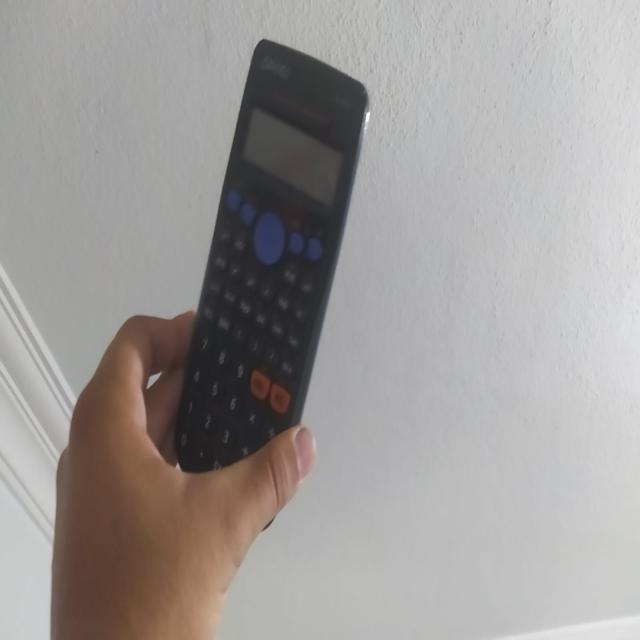Calculator: (170, 38, 368, 516)
